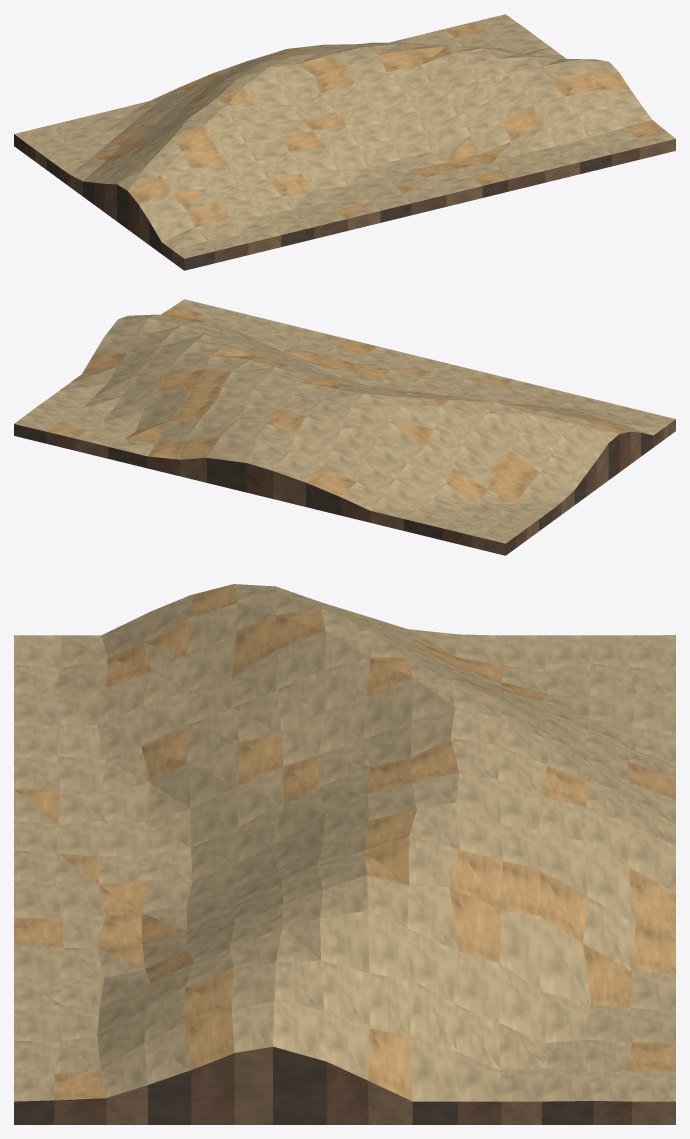
Rendered from dune_sand_S.fbx.
3 views of the same model, one above another, from view 1: azimuth 30°, elevation 25°; view 2: azimuth 150°, elevation 25°; view 3: azimuth 270°, elevation 25° (orthographic). The views are drawn at different scales.
Visible parts, largest first — view 1: dune_sand_S; view 2: dune_sand_S; view 3: dune_sand_S.
Boxes of the visible parts, left/top/right/bottom form: dune_sand_S: left=14, top=14, right=675, bottom=270; dune_sand_S: left=14, top=299, right=675, bottom=555; dune_sand_S: left=14, top=584, right=675, bottom=1124.
Size of the model in its own units: 2500 by 350 by 1500.
1 material, 1 textured.
